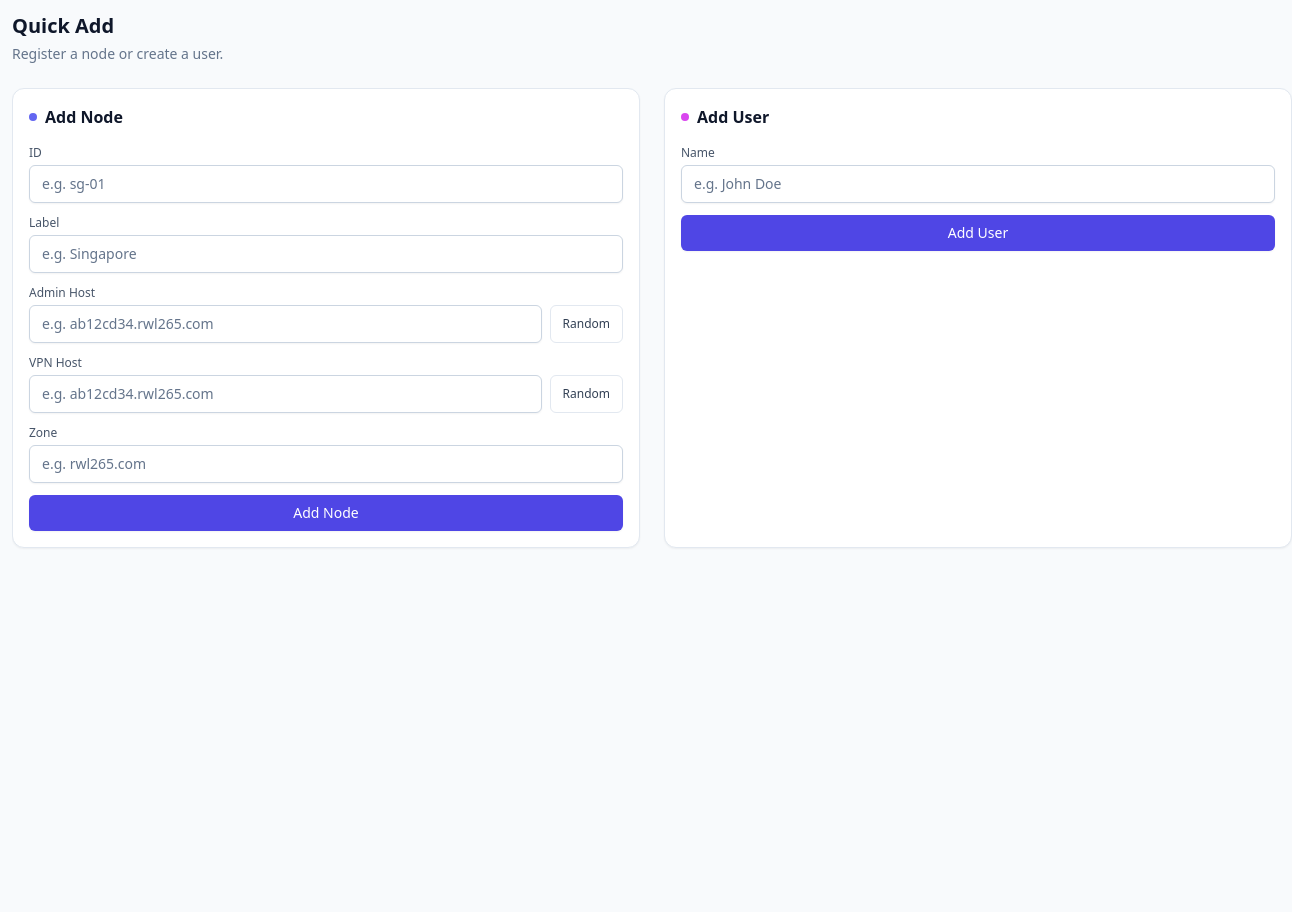
Test case: adds node successfully with all fields filled
In the field with placeholder "e.g. sg-01": [326, 184] box [29,165,623,203], type "sg-01"
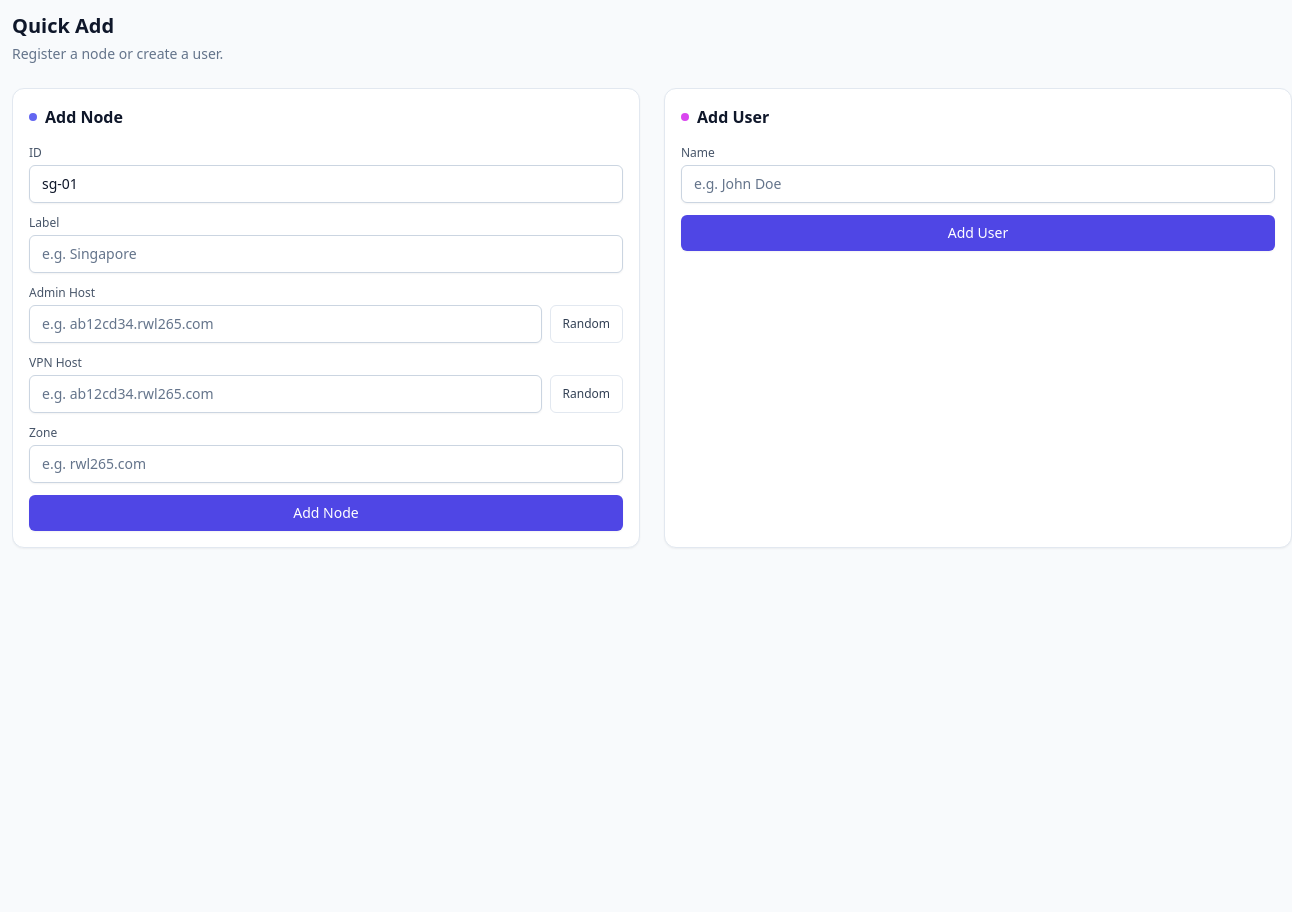
In the field with placeholder "e.g. Singapore": [326, 254] box [29,235,623,273], type "Singapore"
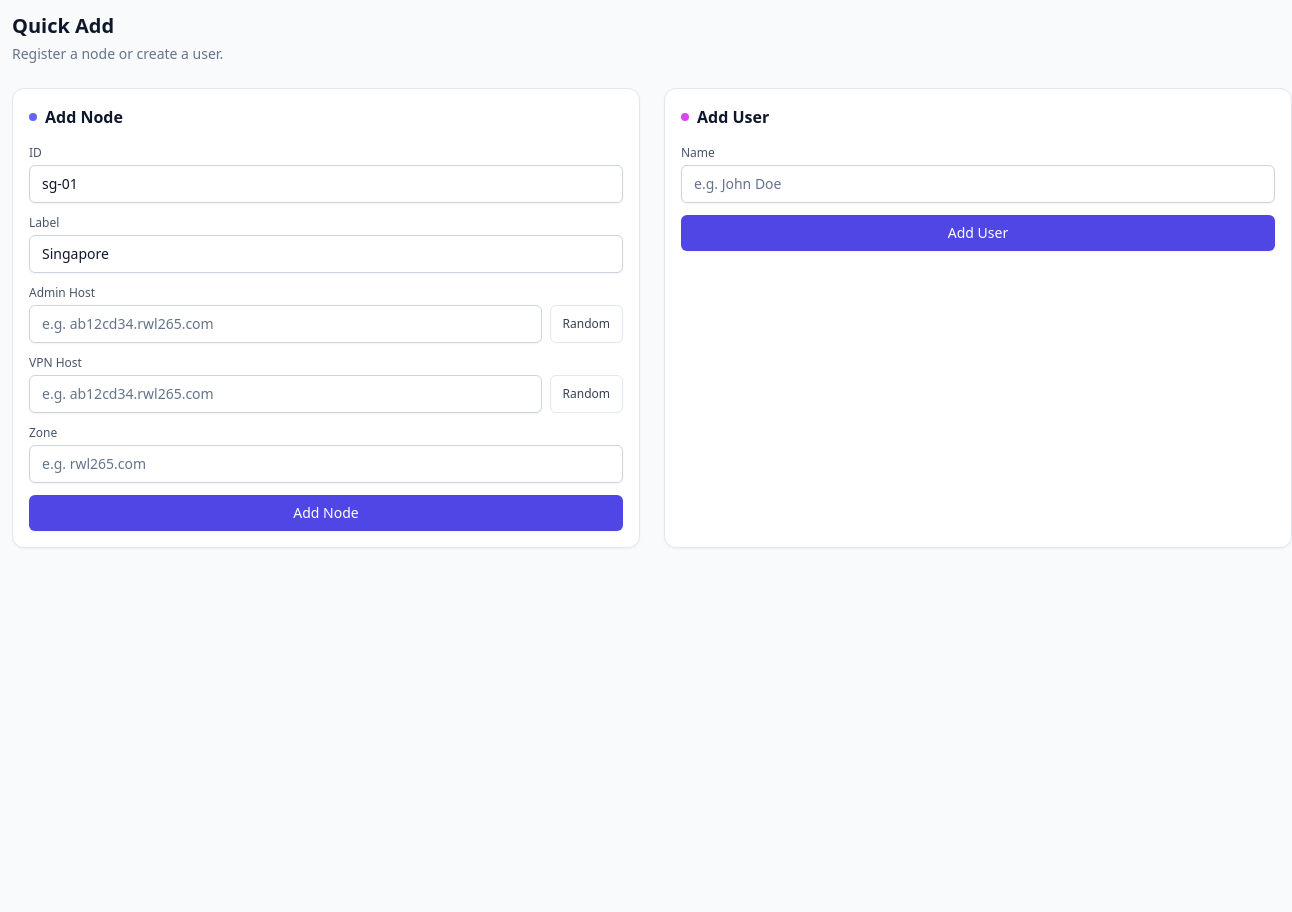
In the field with placeholder "e.g. ab12cd34.rwl265.com" below "Admin Host": [285, 324] box [29,305,542,343], type "ab12cd34.rwl265.com"
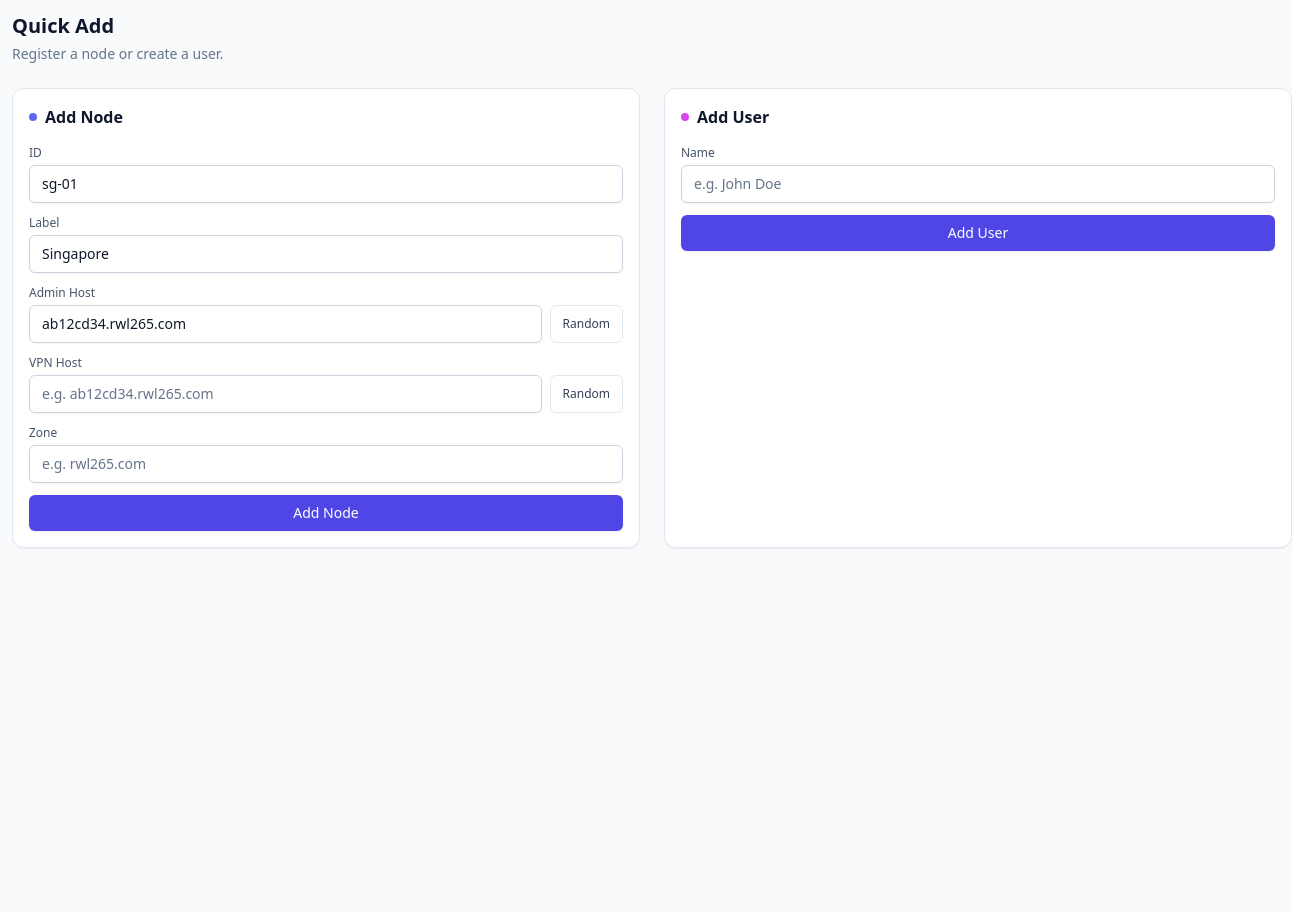
In the field with placeholder "e.g. ab12cd34.rwl265.com": [285, 394] box [29,375,542,413], type "ab12cd34.rwl265.com"
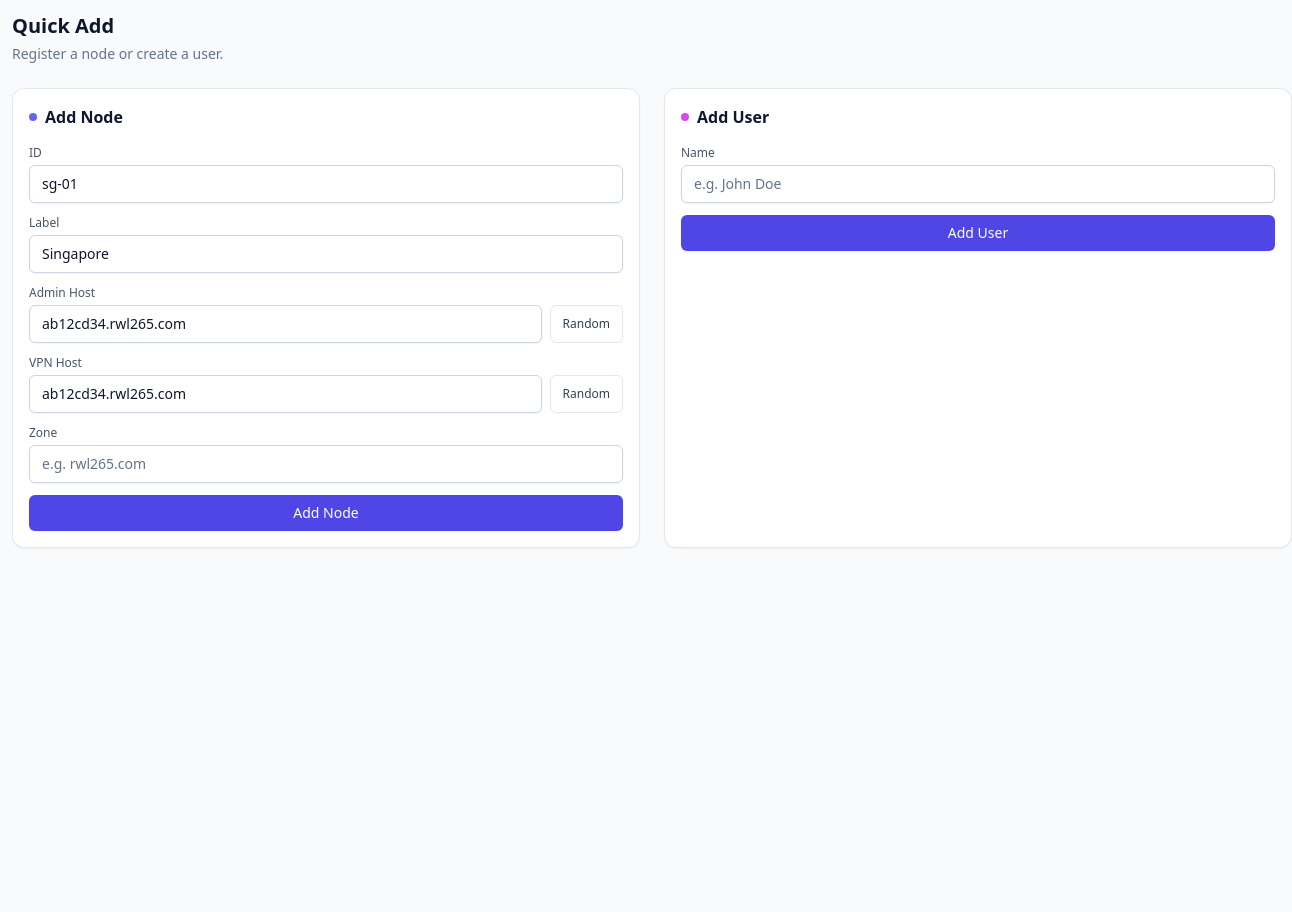
In the field with placeholder "e.g. rwl265.com": [326, 464] box [29,445,623,483], type "rwl265.com"
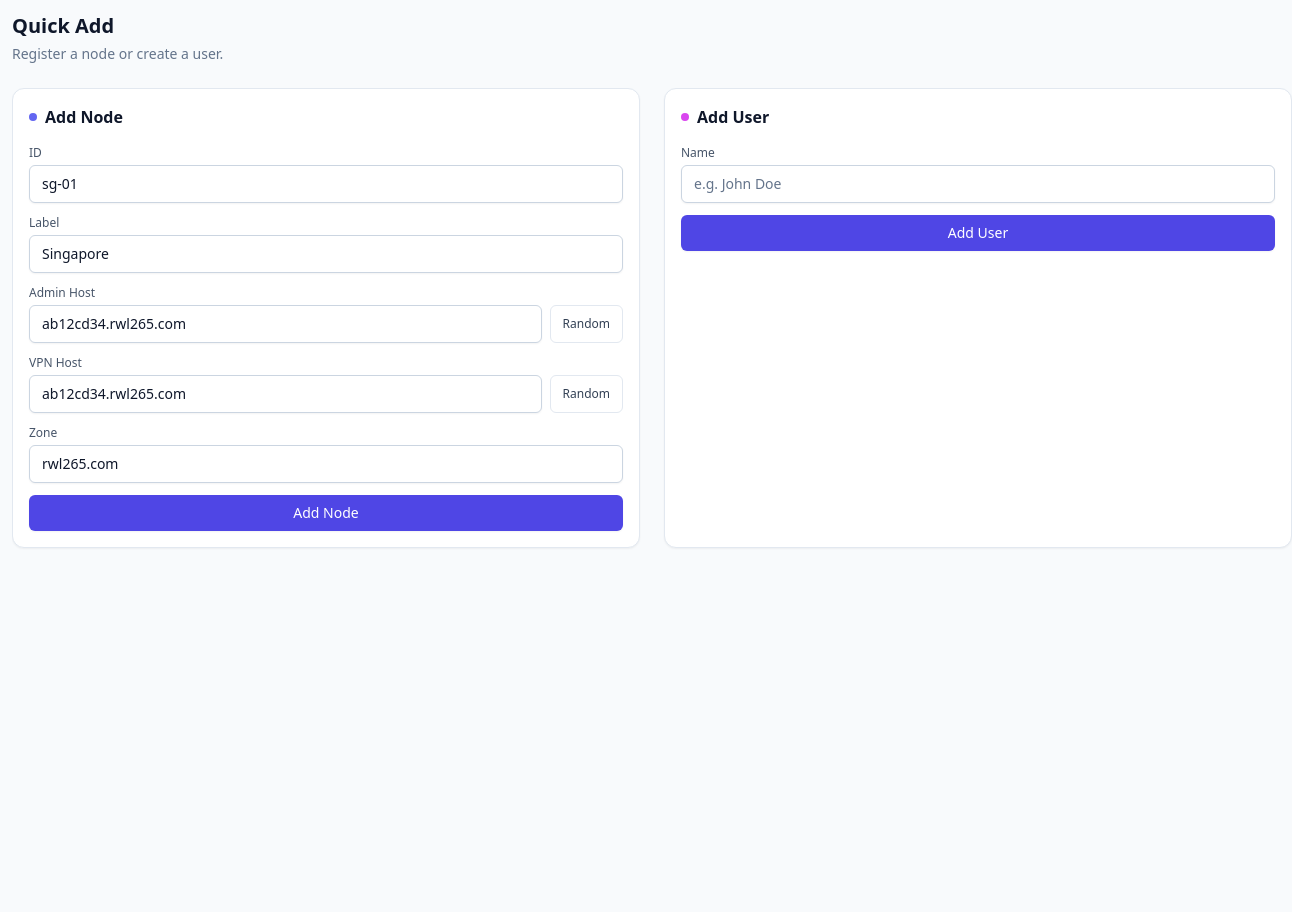
Click the button "Add Node": [326, 513] box [29,495,623,531]
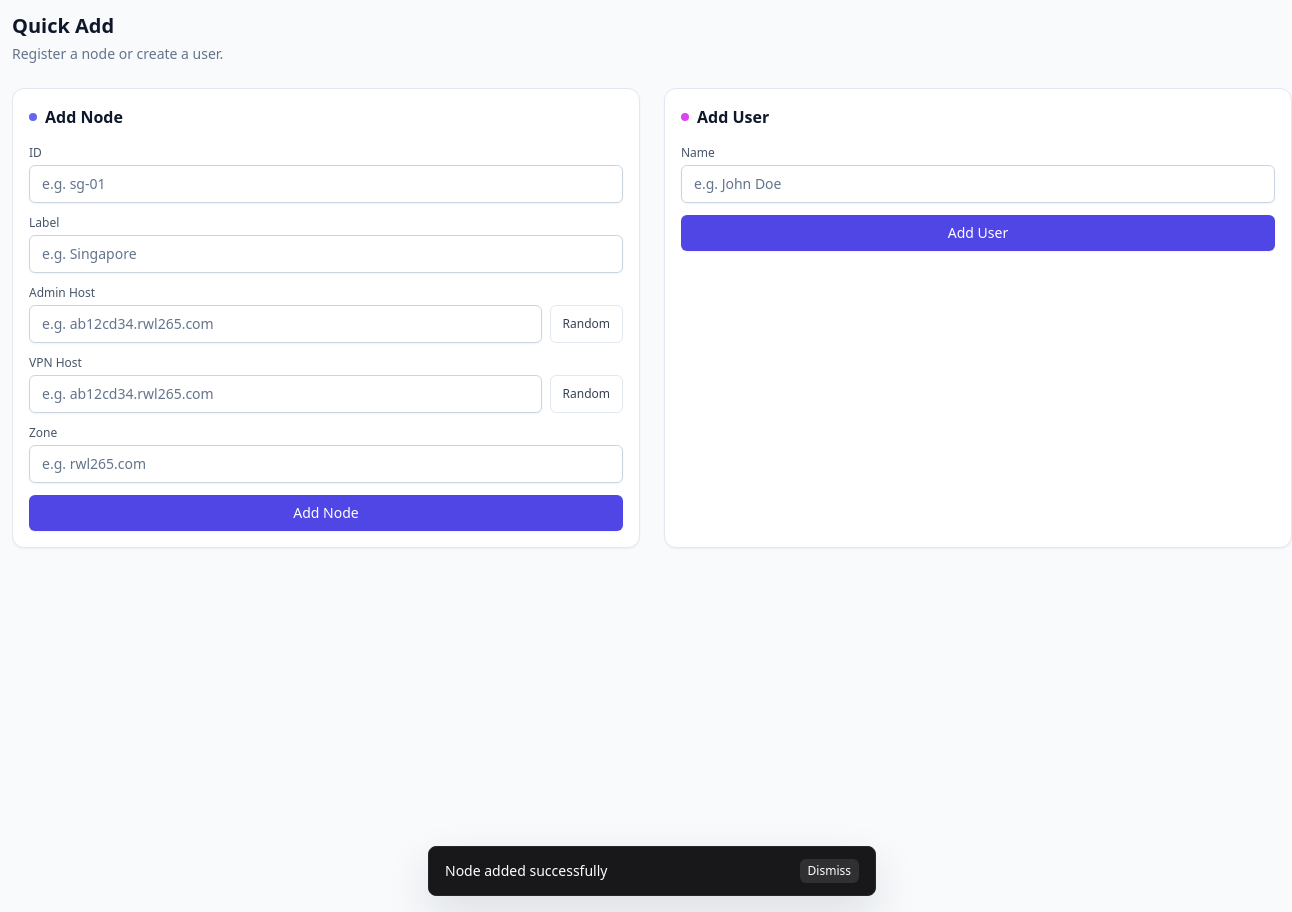
Check: the text "Node added successfully" is shown, box [445,861,607,881]
